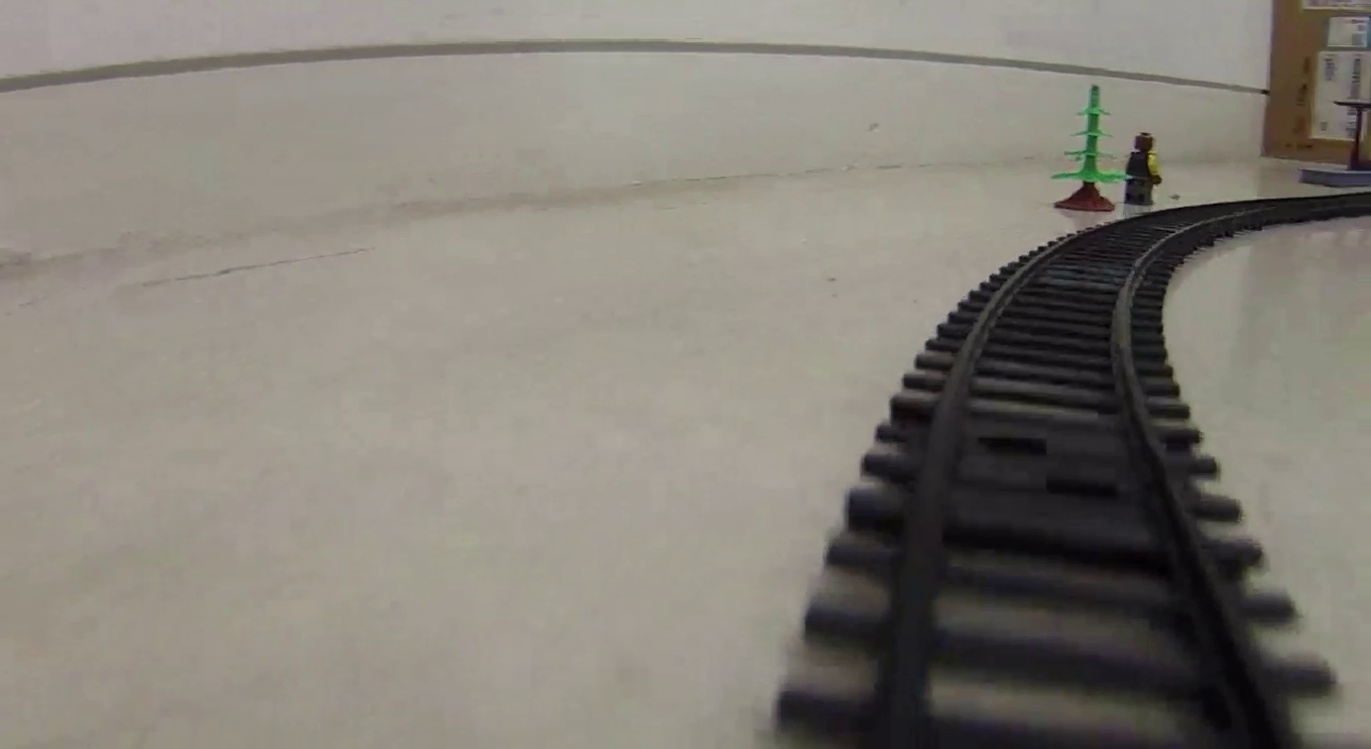people: (1125, 133, 1161, 205)
tree: (1051, 84, 1129, 211)
